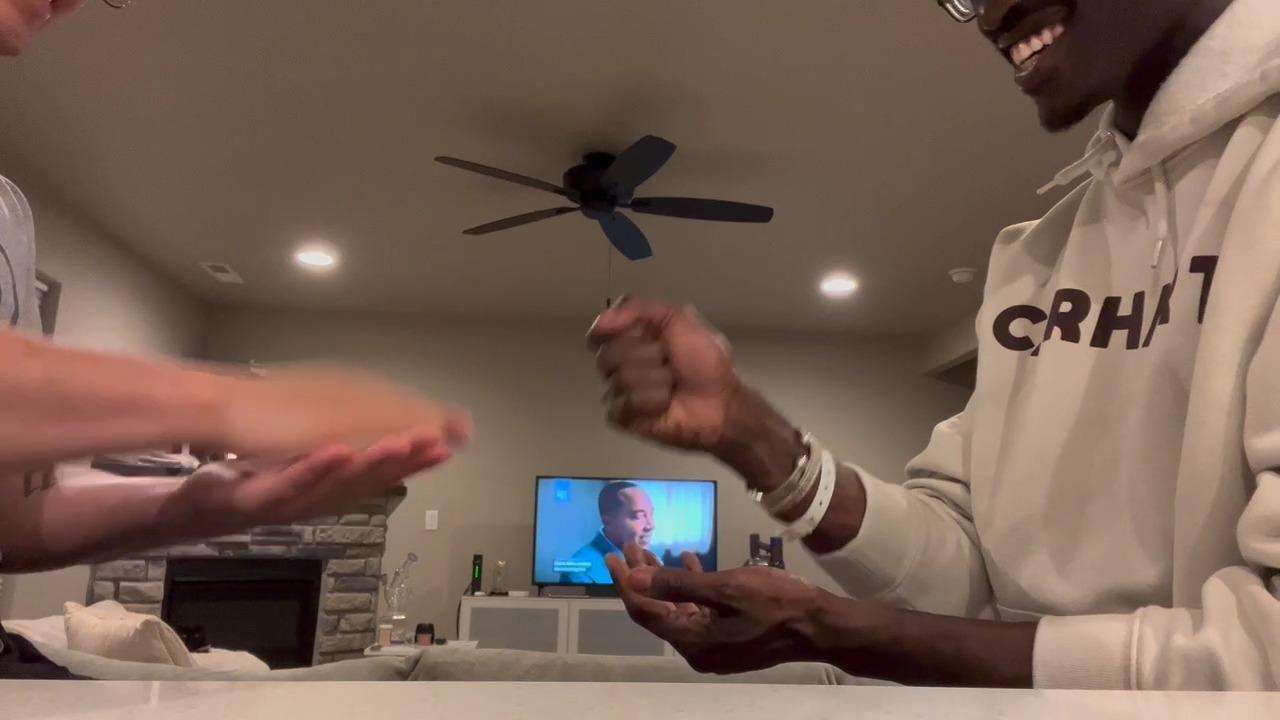Paper: (213, 360, 448, 453)
Rock: (592, 300, 739, 458)
